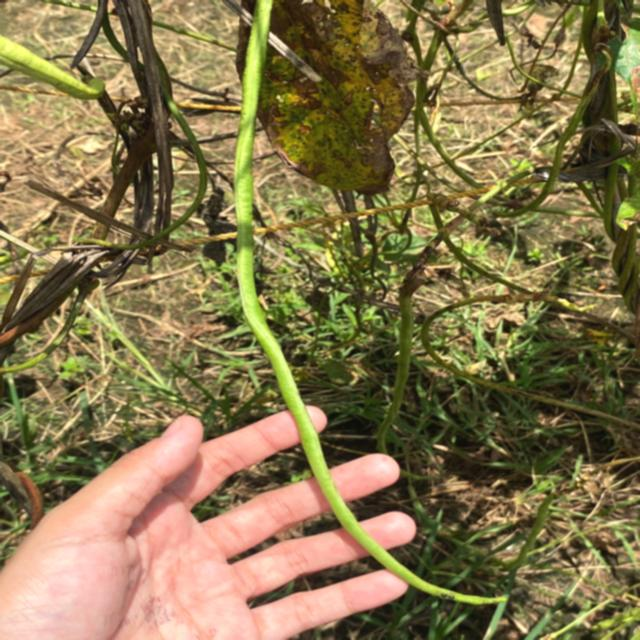10: (235, 0, 438, 595)
leaf-moderate: (258, 0, 420, 195)
